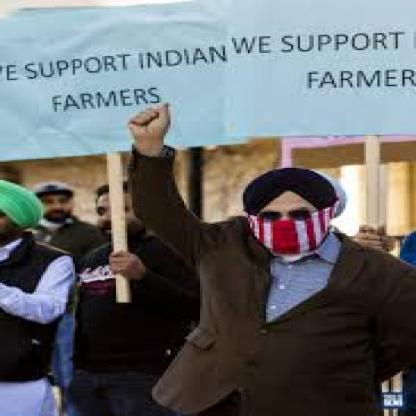BANNER: (0, 0, 416, 162)
